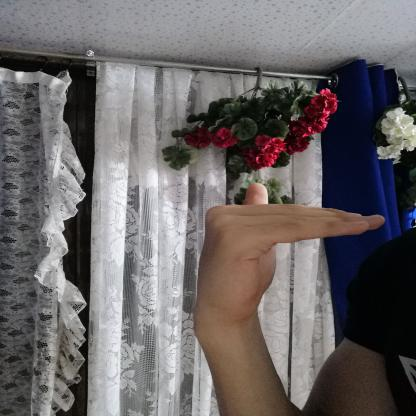KHAA: (178, 171, 392, 348)
